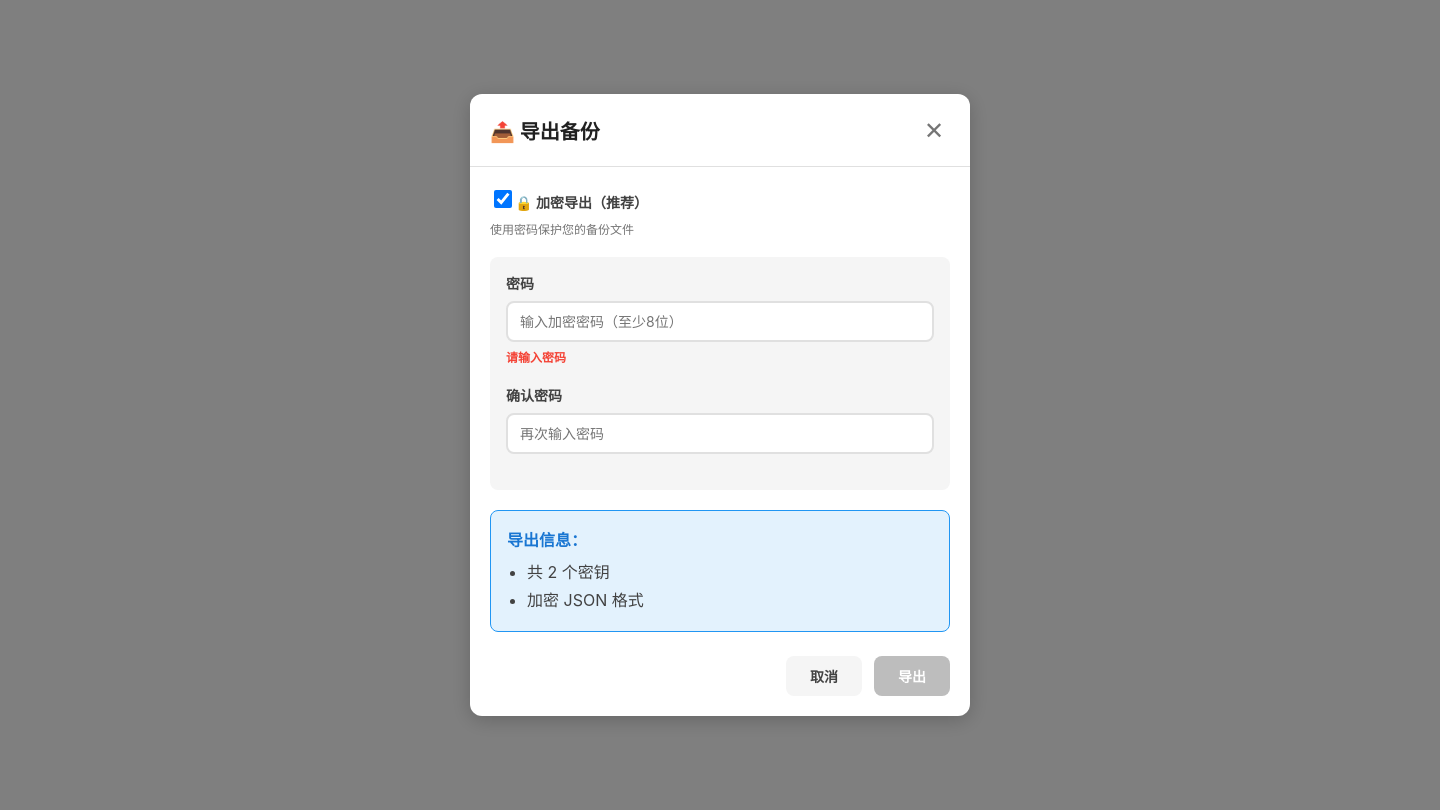
ExportDialog › should show password strength indicator
The image size is (1440, 810).
Type "weak" into the password field labelled "密码" at (720, 322), box 506,301 -> 934,342
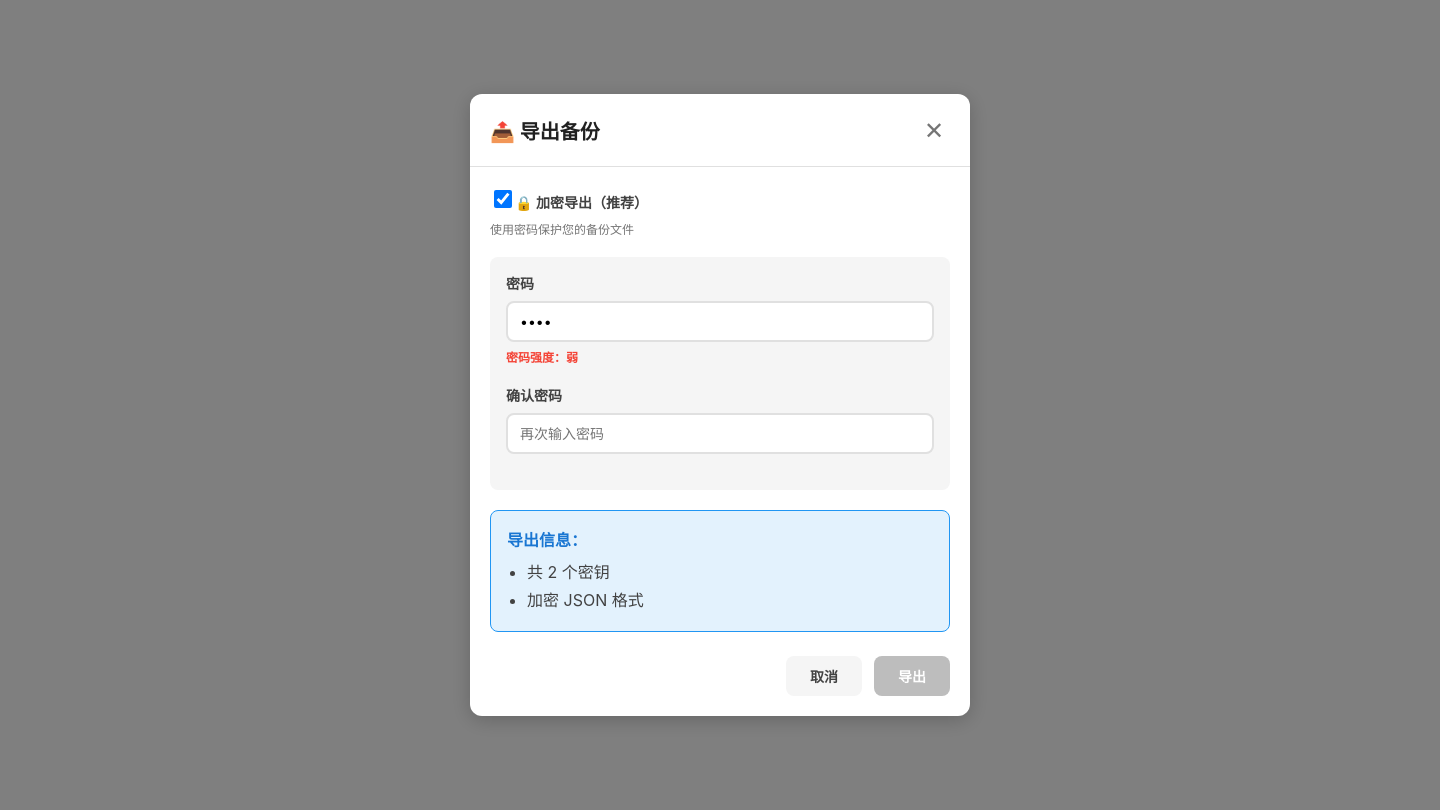
Result: the text "密码强度：弱" is shown at 506,350 -> 578,365
Type "Medium12" into the password field labelled "密码" at (720, 322), box 506,301 -> 934,342
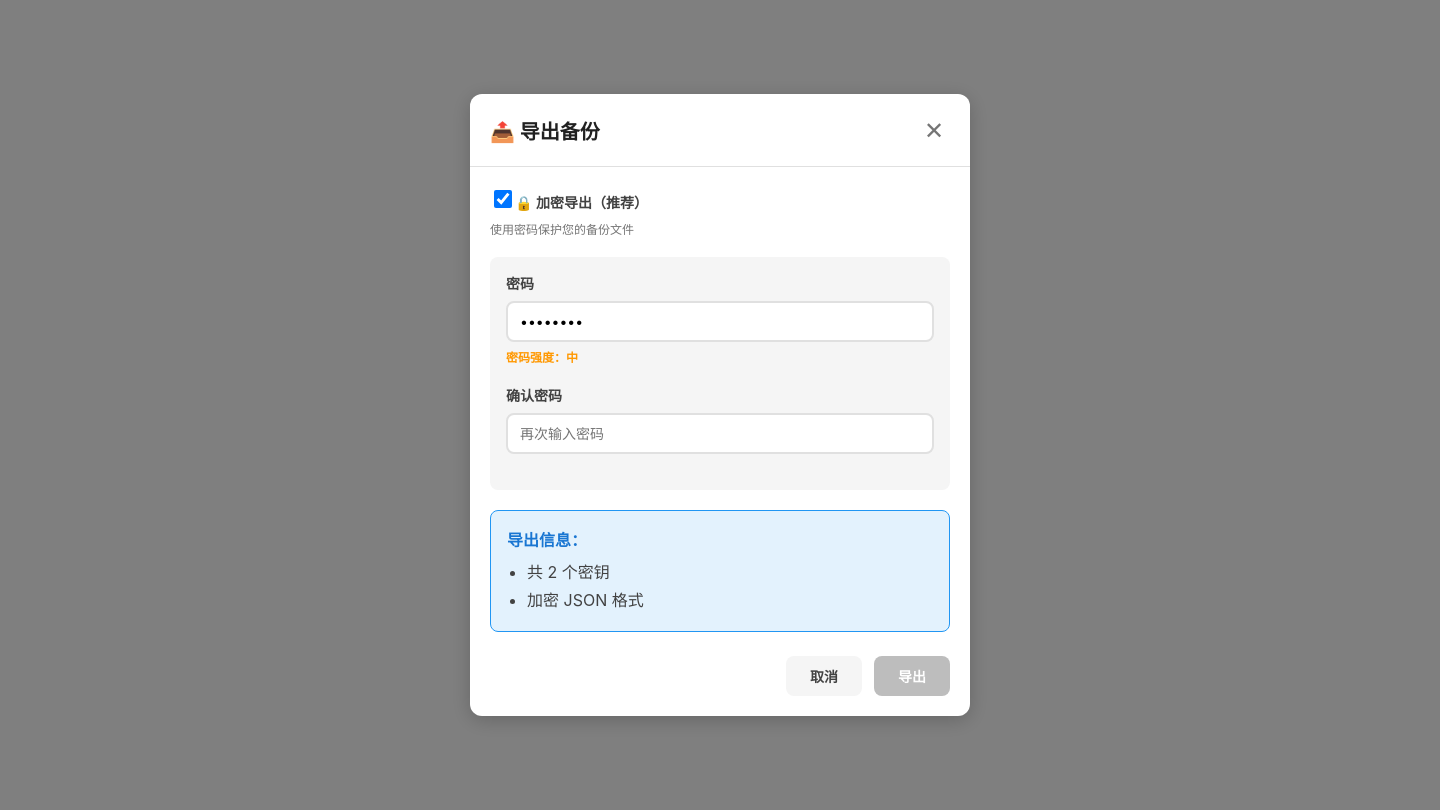
Result: the text "密码强度：中" is shown at 506,350 -> 578,365
Type "Strong123!@#" into the password field labelled "密码" at (720, 322), box 506,301 -> 934,342
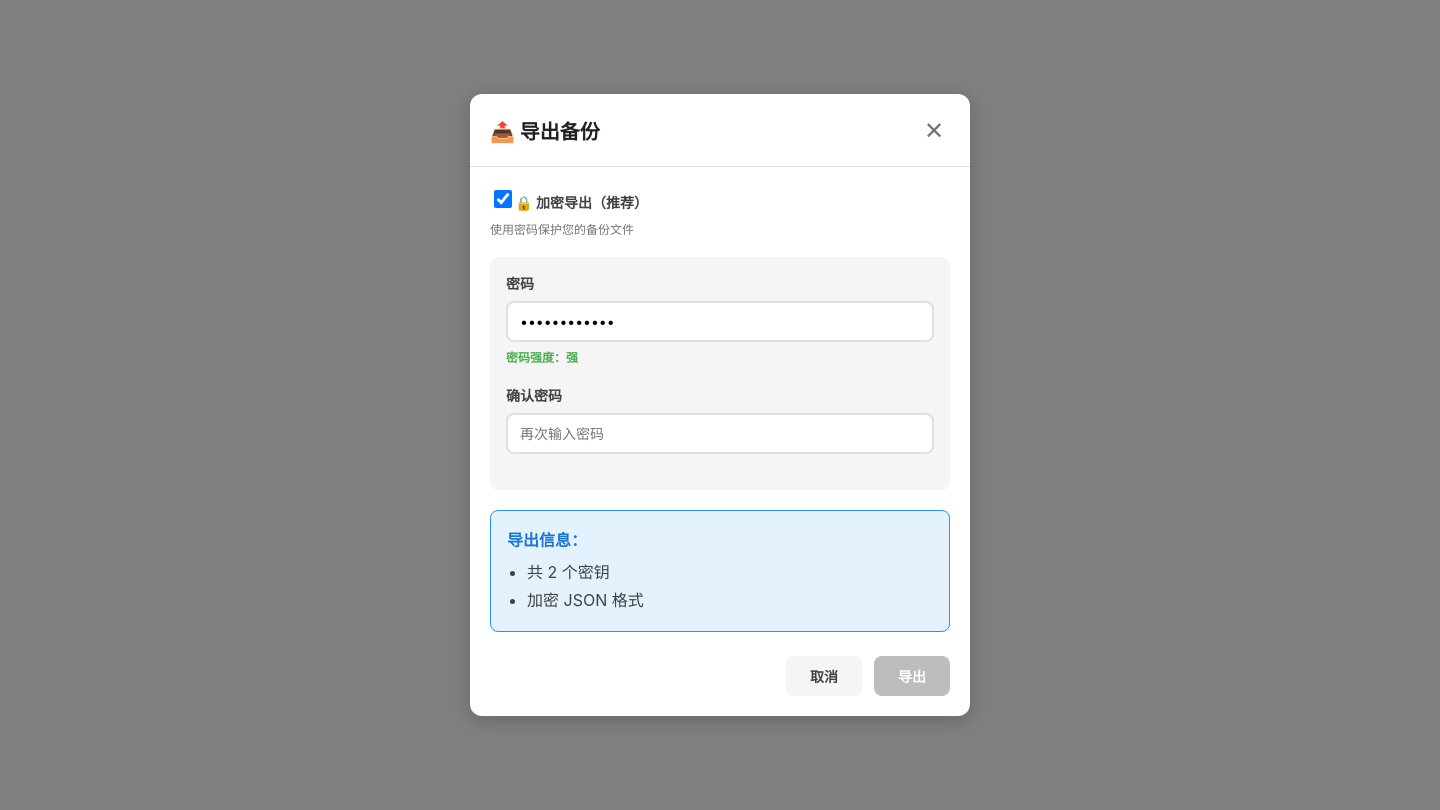
Result: the text "密码强度：强" is shown at 506,350 -> 578,365
